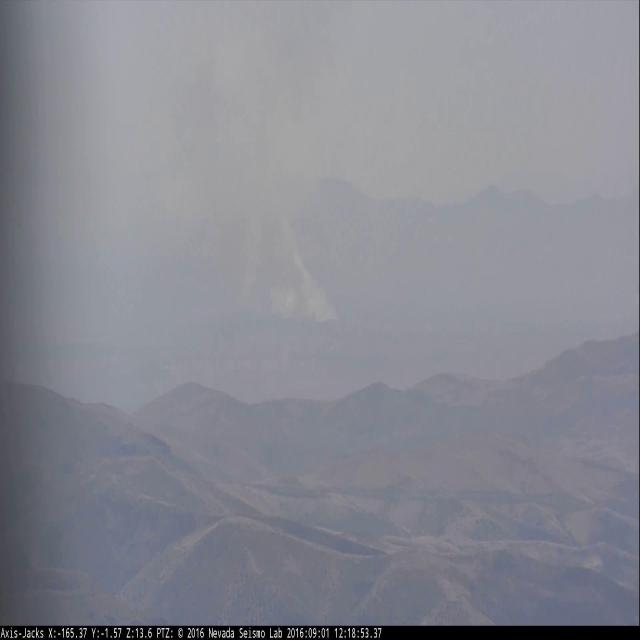smoke: (182, 84, 343, 324)
